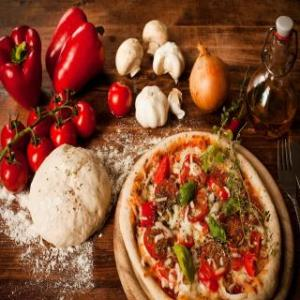bell_pepper: (44, 5, 106, 95), (0, 25, 42, 105)
garlic: (136, 80, 170, 132), (153, 36, 185, 84)
onion: (190, 41, 230, 109)
tomato: (0, 146, 26, 194), (68, 100, 96, 136), (48, 114, 77, 148), (28, 134, 52, 174), (108, 80, 132, 118), (26, 105, 52, 136), (49, 88, 75, 118), (2, 118, 26, 144)
